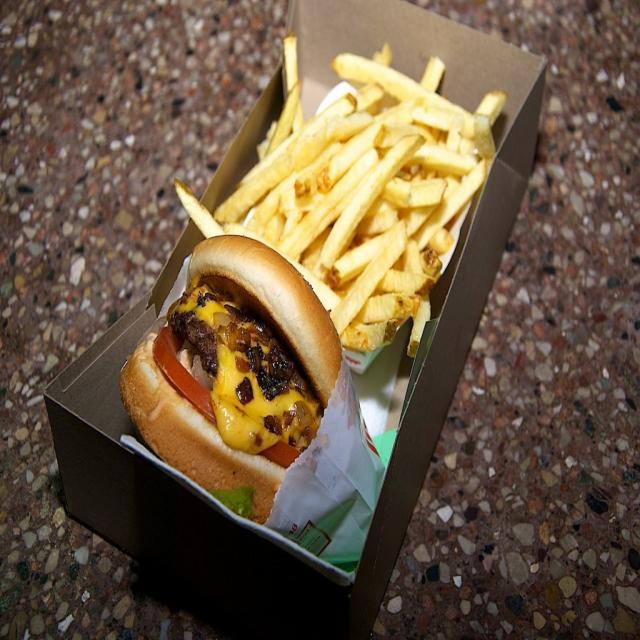French fries: (174, 35, 511, 366)
